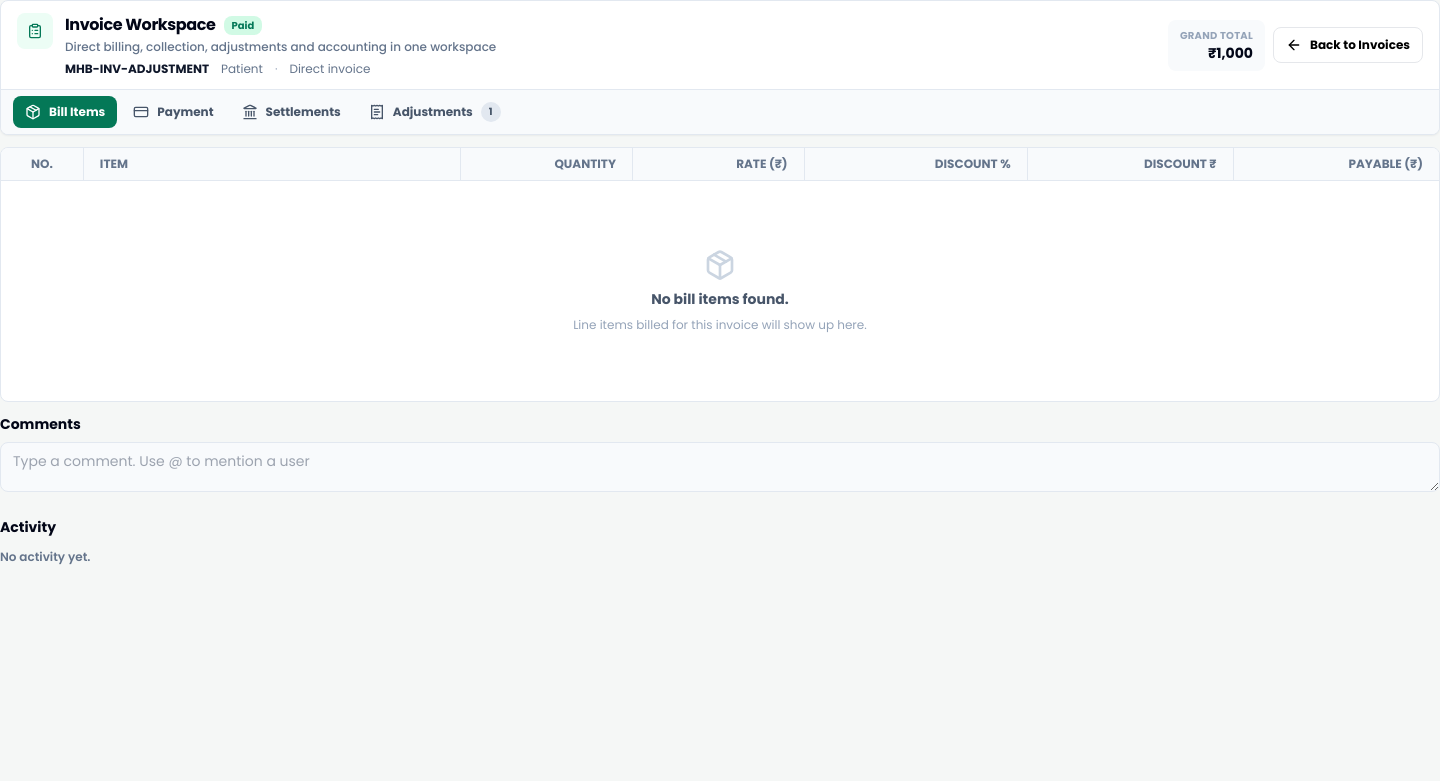
Test case: adjustment approval permissions › keeps approval actions hidden from a receptionist with request and broad billing access
Click the button "Adjustments 1" at (435, 112), box [357,96,513,128]
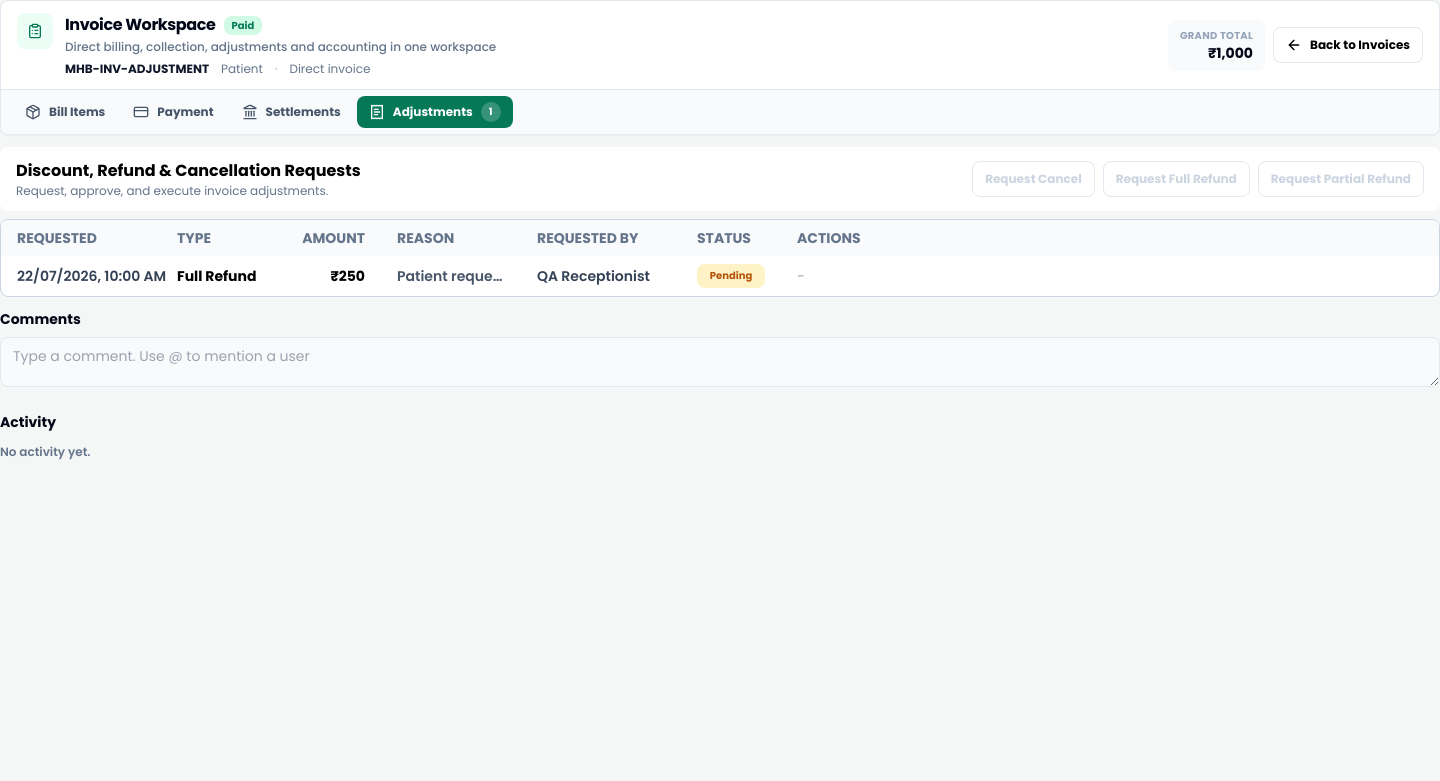
expect the button "Request Full Refund" is shown: met, box [1103,161,1250,197]
Click the button "Payment" at (173, 112), box [121,96,226,128]
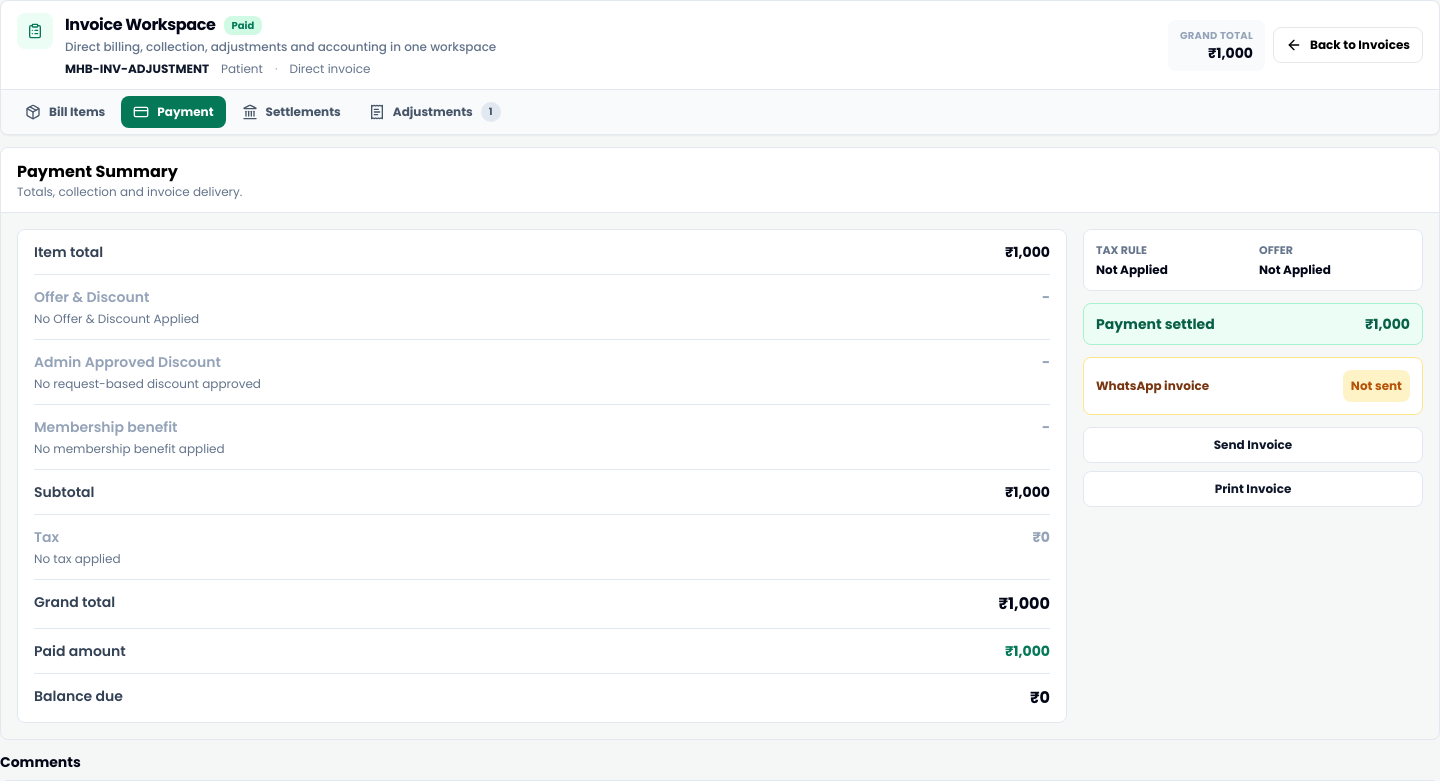
expect the text "Send Invoice" is shown: met, box [1214,437,1292,453]
